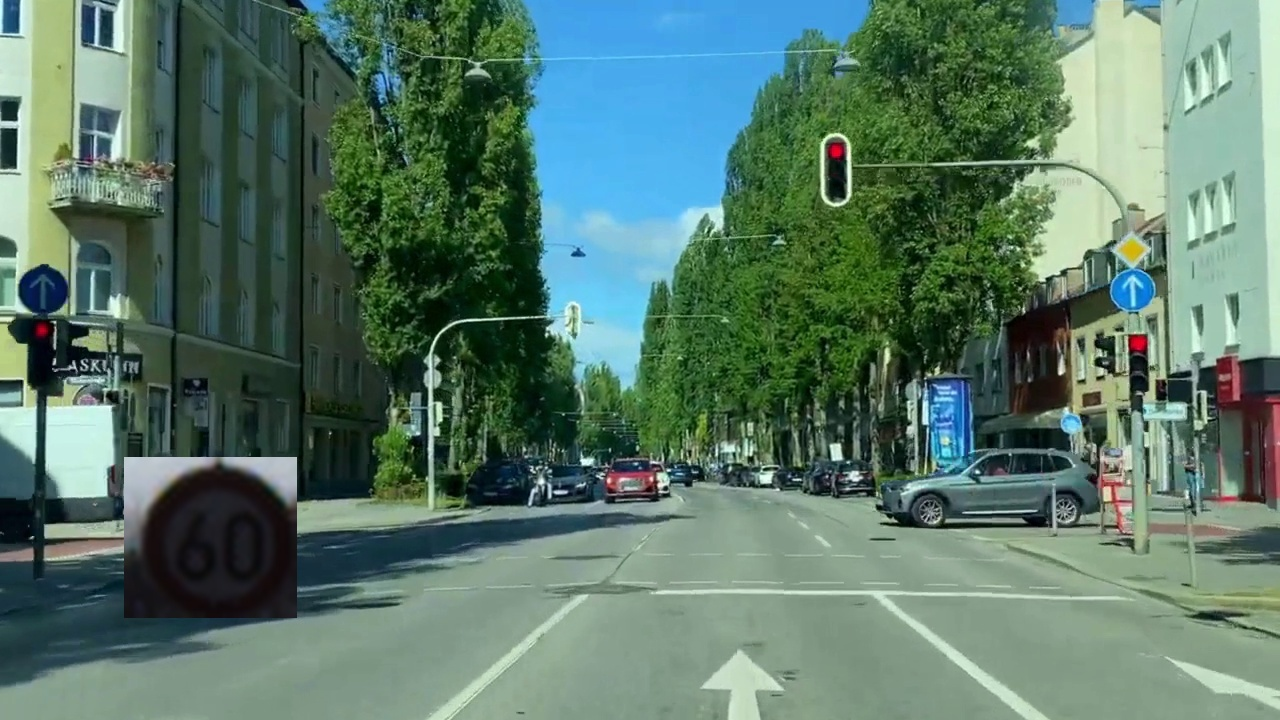Speed 60: (124, 457, 297, 618)
